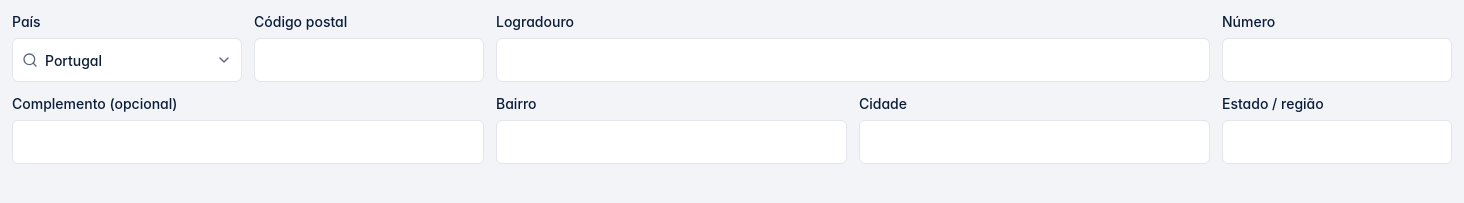
Test: máscaras progressivas com valor cadastral em dígitos › preserva edição e consulta estrangeiras sem aplicar máscara numérica brasileira
Type "AB12-345" into the field labelled "Código postal" at (369, 60), box 254,38 -> 484,82
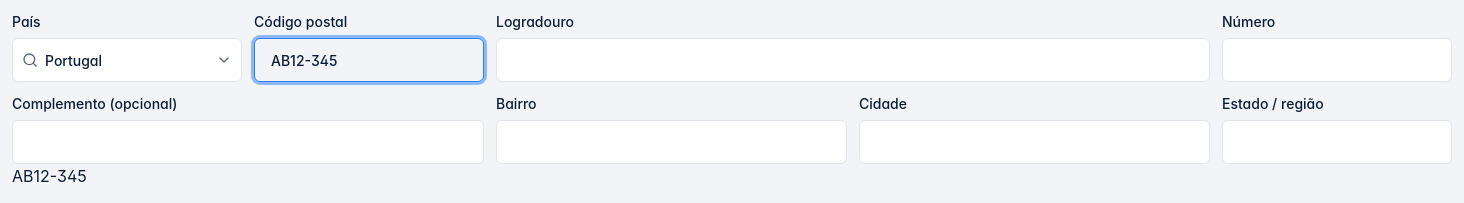
Expected: the text "AB12-345" is shown, 12,166 -> 87,186
